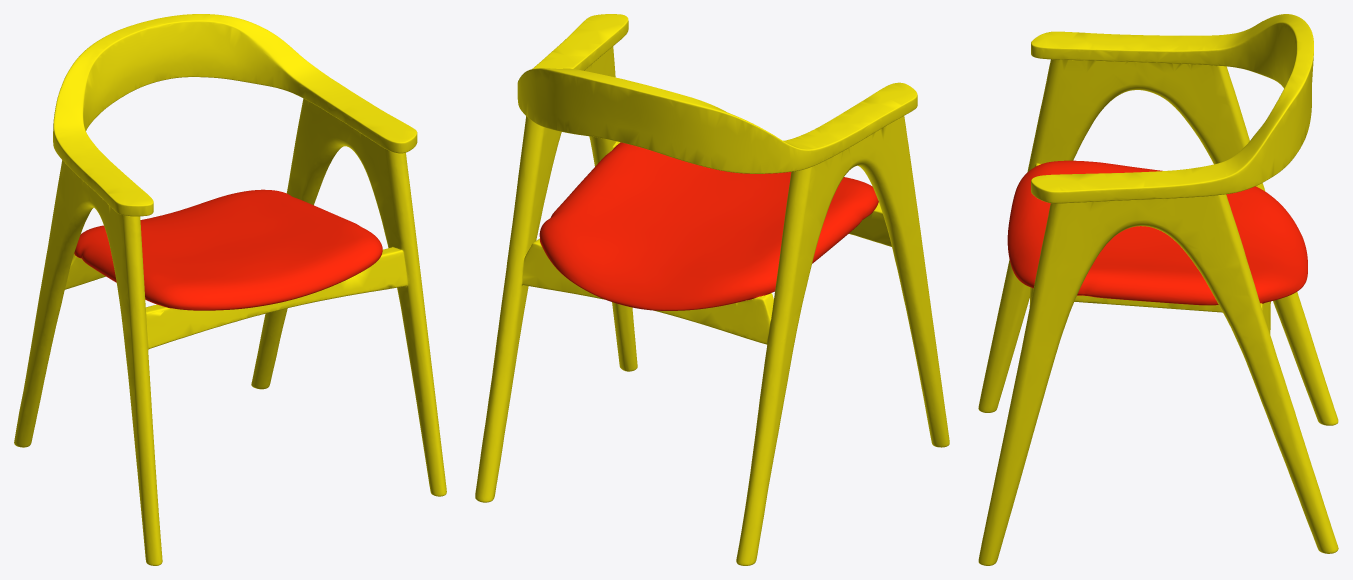
File: rk-standartinis.glb
The picture shows the model from 3 angles, left to right: view 1: azimuth 30°, elevation 25°; view 2: azimuth 150°, elevation 25°; view 3: azimuth 270°, elevation 25°; orthographic projection. The views are drawn at different scales.
Visible parts, largest first — view 1: frame, seat; view 2: frame, seat; view 3: frame, seat.
Part boxes in pixels (x1,y1,x2,y2): frame: [14, 14, 446, 565]; seat: [74, 189, 382, 310]; frame: [475, 14, 949, 565]; seat: [539, 142, 878, 310]; frame: [978, 14, 1338, 565]; seat: [1007, 160, 1307, 305].
Bounding box in the file's own units: 0.094 × 0.12 × 0.0889.
